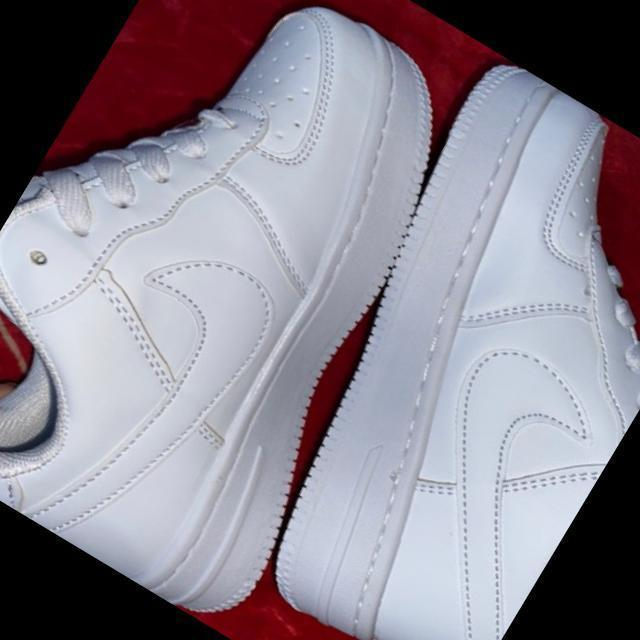nike fake air force: (0, 0, 539, 639), (196, 51, 640, 640)
